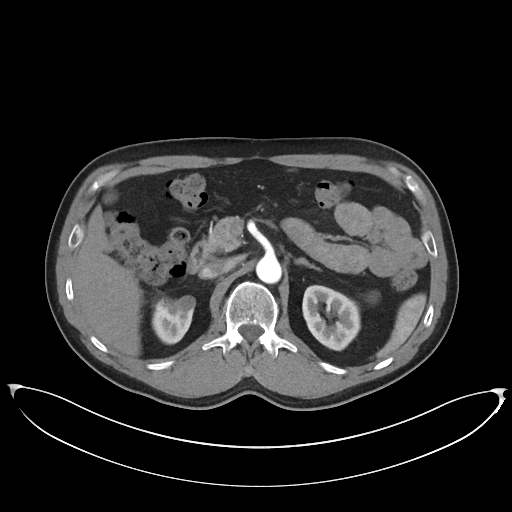Lesion: (174, 293, 197, 318)
